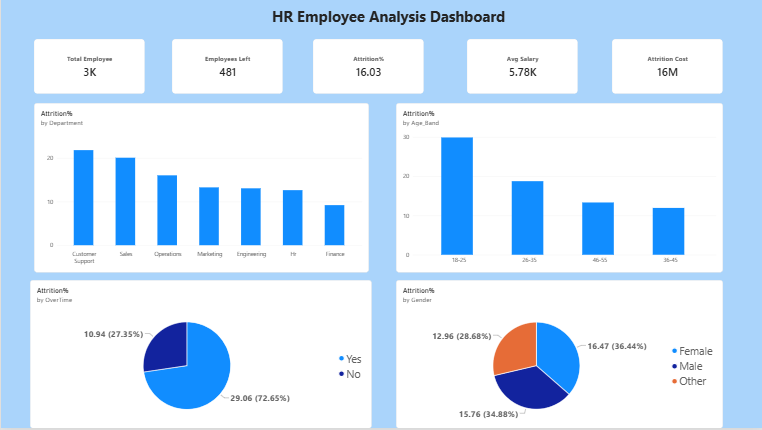

The page's visual inventory and layout, read from the dashboard file:
{"tool":"powerbi","page":{"name":"Home","canvas":[1920,1080],"ordinal":0},"visuals":[{"type":"cardVisual","fields":{"Data":["Sheet1.Attrition Cost"]},"box":[1540.1,97,279.7,138.6],"z":0},{"type":"textbox","box":[35,306.5,280,150],"z":1000},{"type":"textbox","box":[361.3,14.5,1232.5,82.6],"z":2000},{"type":"cardVisual","fields":{"Data":["Sheet1.Employees Left"]},"box":[431.5,97,279.7,138.6],"z":3000},{"type":"cardVisual","fields":{"Data":["Sheet1.Avg Salary"]},"box":[1174.7,97,279.7,138.6],"z":4000},{"type":"cardVisual","fields":{"Data":["Sheet1.Attrition%"]},"box":[786.6,97,279.7,138.6],"z":5000},{"type":"cardVisual","fields":{"Data":["Sheet1.Total Employee"]},"box":[82.6,97,279.7,138.6],"z":6000},{"type":"columnChart","fields":{"Category":["Sheet1.Department"],"Y":["Sheet1.Attrition%"]},"box":[82.6,260.1,844.4,427.4],"z":7000},{"type":"columnChart","fields":{"Category":["Sheet1.Age_Band"],"Y":["Sheet1.Attrition%"]},"box":[995.1,260.1,823.7,427.4],"z":8000},{"type":"pieChart","fields":{"Category":["Sheet1.OverTime"],"Y":["Sheet1.Attrition%"]},"box":[74.3,706.1,860.9,373.7],"z":9000},{"type":"pieChart","fields":{"Category":["Sheet1.Gender"],"Y":["Sheet1.Attrition%"]},"box":[995.1,706.1,823.7,373.7],"z":10000}]}

Visuals, with their boxes in screenshot pixels (x1, y1, x2, y2), scaled from the page's 1920x1080 canvas onto the 762x430 screenshot:
cardVisual - Sheet1.Attrition Cost: region(611, 39, 722, 94)
textbox: region(14, 122, 125, 182)
textbox: region(143, 6, 633, 39)
cardVisual - Sheet1.Employees Left: region(171, 39, 282, 94)
cardVisual - Sheet1.Avg Salary: region(466, 39, 577, 94)
cardVisual - Sheet1.Attrition%: region(312, 39, 423, 94)
cardVisual - Sheet1.Total Employee: region(33, 39, 144, 94)
columnChart - Sheet1.Department x Sheet1.Attrition%: region(33, 104, 368, 274)
columnChart - Sheet1.Age_Band x Sheet1.Attrition%: region(395, 104, 722, 274)
pieChart - Sheet1.OverTime x Sheet1.Attrition%: region(29, 281, 371, 429)
pieChart - Sheet1.Gender x Sheet1.Attrition%: region(395, 281, 722, 429)
